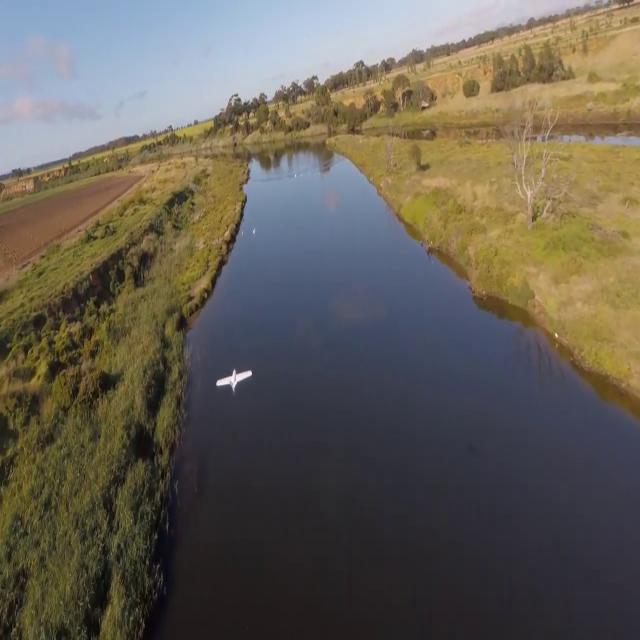iha: (214, 363, 252, 393)
